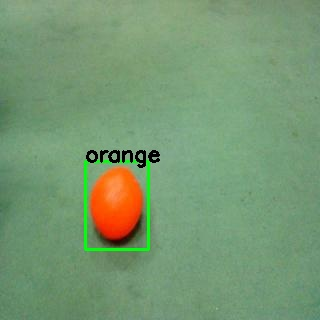orange: (86, 162, 146, 248)
